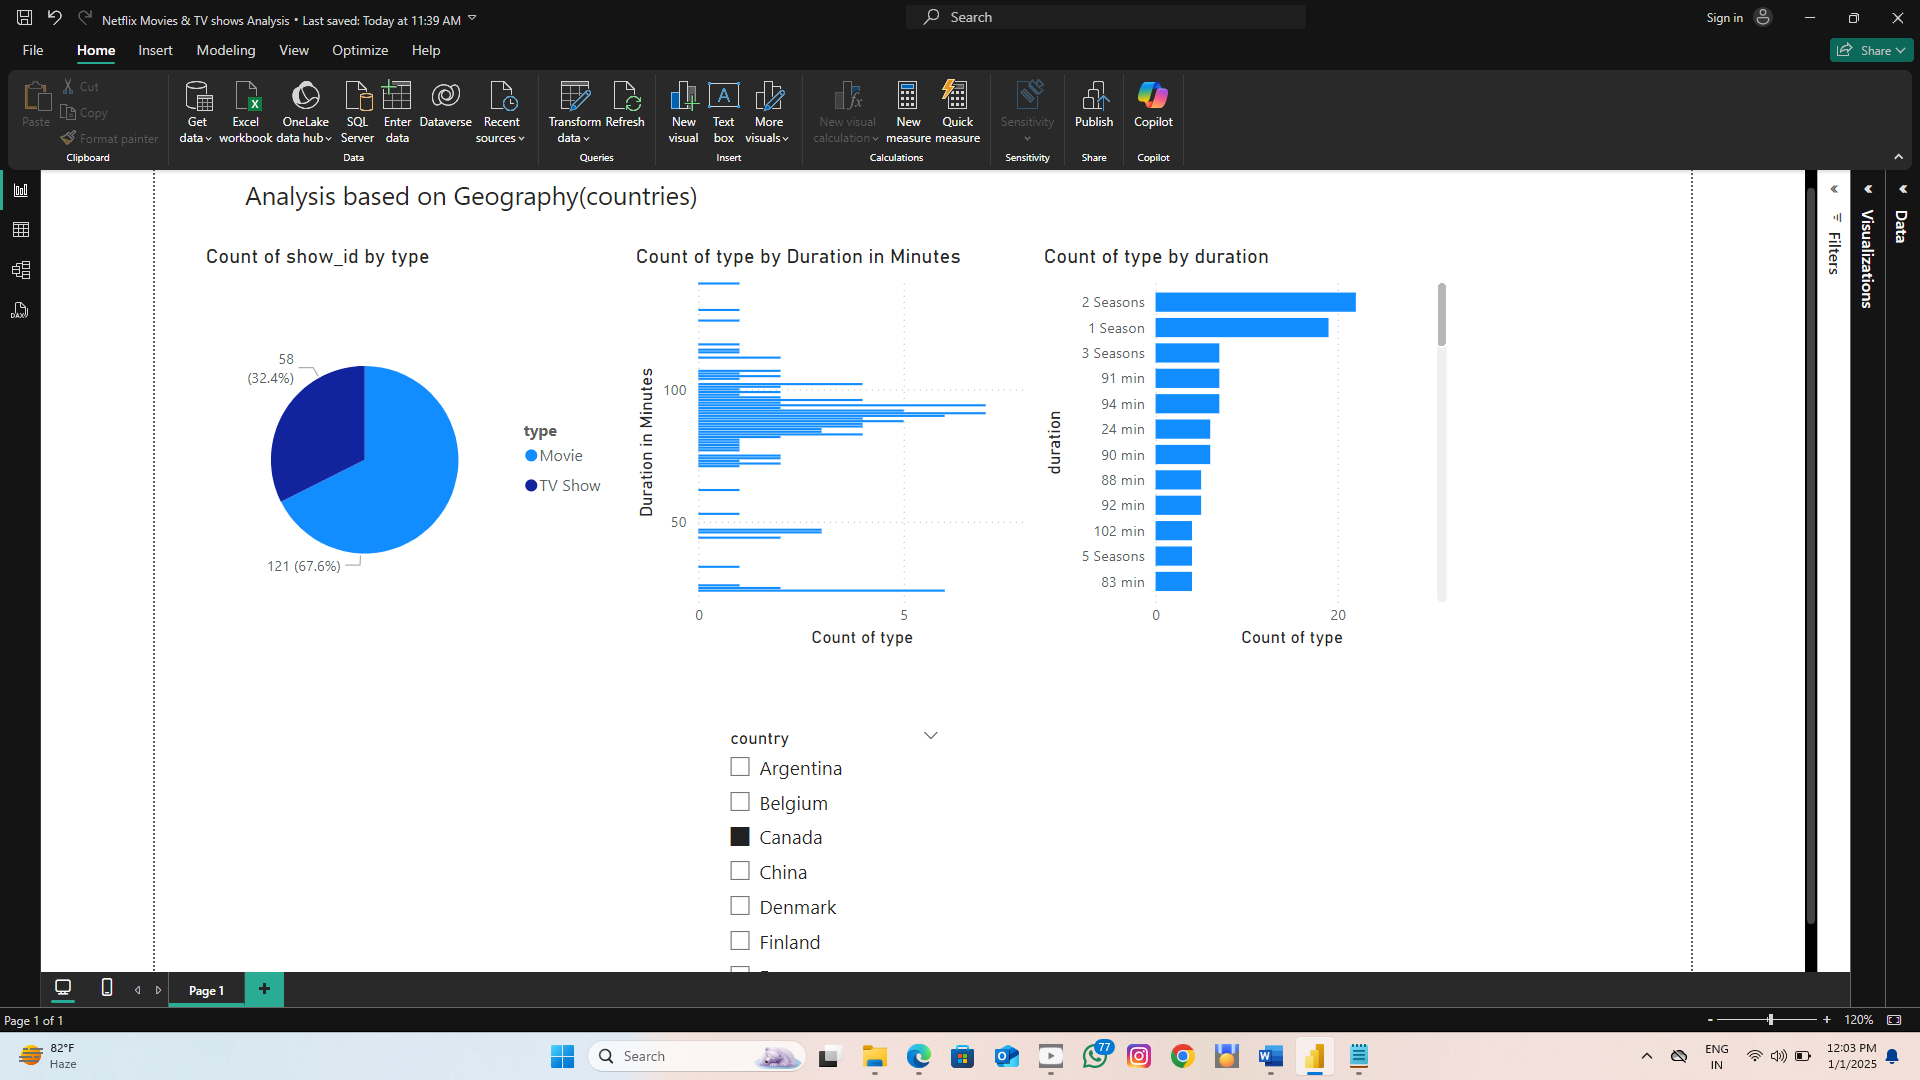

Layout of this report page (visuals, bound fields, positions):
{"tool":"powerbi","page":{"name":"Page 1","canvas":[1280,720],"ordinal":0},"visuals":[{"type":"pieChart","fields":{"Category":["netflix_titles.type"],"Y":["CountNonNull(netflix_titles.show_id)"]},"box":[37.6,70.3,348.5,340.6],"z":0},{"type":"slicer","fields":{"Values":["netflix_titles.country"]},"box":[466.3,468.3,199,243.6],"z":1},{"type":"barChart","fields":{"Y":["CountNonNull(netflix_titles.type)"],"Category":["netflix_titles.Duration in Minutes"]},"box":[396,70.3,339.6,340.6],"z":2},{"type":"barChart","fields":{"Category":["netflix_titles.duration"],"Y":["CountNonNull(netflix_titles.type)"]},"box":[735.6,70.3,345.5,340.6],"z":3},{"type":"textbox","box":[70,8.8,430,50],"z":4}]}

Visuals, with their boxes on the page's 1280x720 design canvas (x1, y1, x2, y2). These are canvas units, not pixel positions in the 1920x1080 screenshot, which may show the page scaled, cropped or inside an application window:
pieChart - netflix_titles.type x CountNonNull(netflix_titles.show_id): (x1=38, y1=70, x2=386, y2=411)
slicer - netflix_titles.country: (x1=466, y1=468, x2=665, y2=712)
barChart - CountNonNull(netflix_titles.type) x netflix_titles.Duration in Minutes: (x1=396, y1=70, x2=736, y2=411)
barChart - netflix_titles.duration x CountNonNull(netflix_titles.type): (x1=736, y1=70, x2=1081, y2=411)
textbox: (x1=70, y1=9, x2=500, y2=59)
